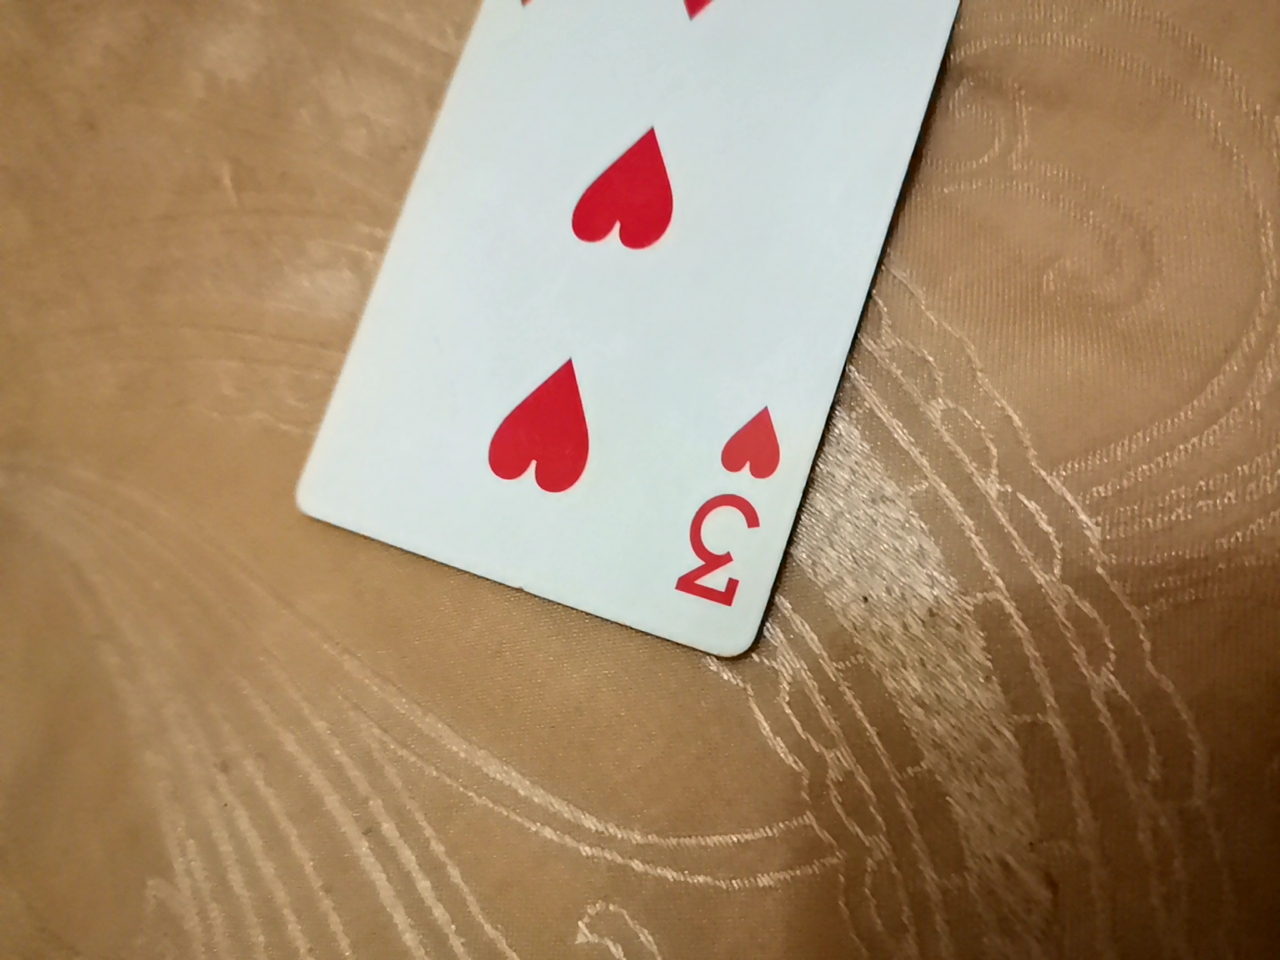hx 3: (290, 3, 981, 750)
